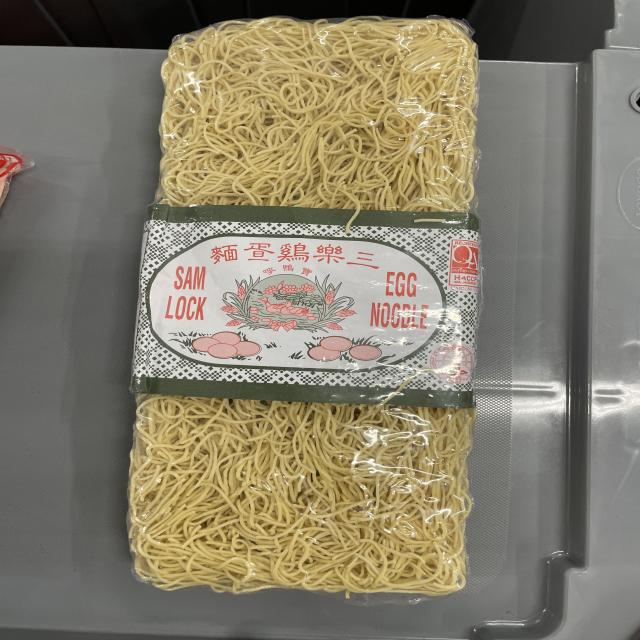object_name: (168, 34, 452, 577)
